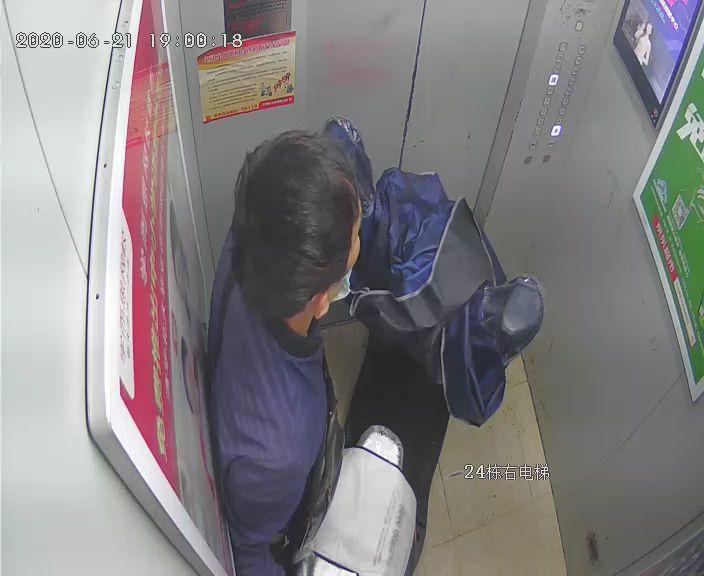Electric-bicycle: (277, 119, 543, 575)
